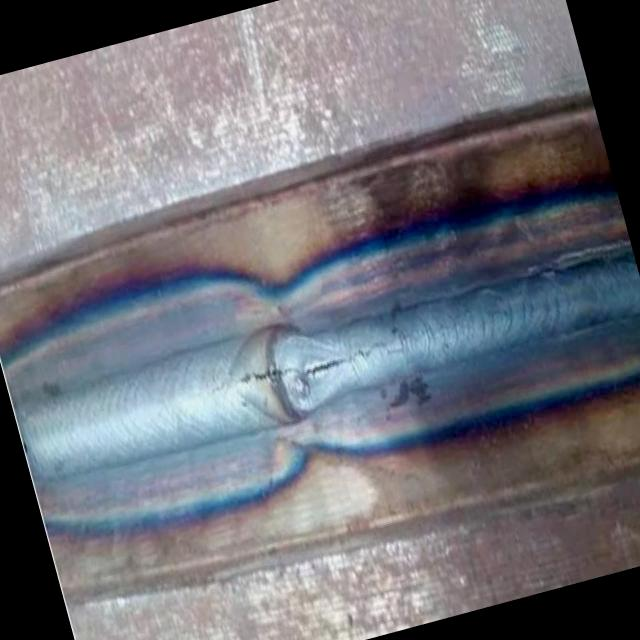defect: (234, 324, 415, 386)
